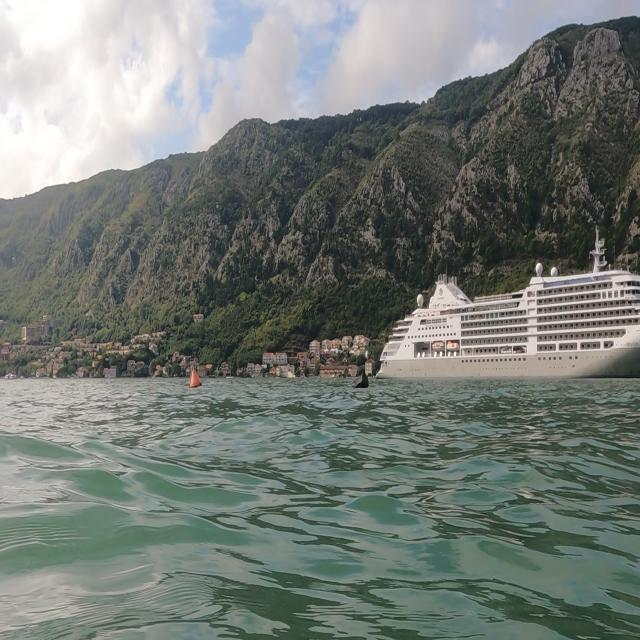boat: (374, 223, 638, 383)
buoy: (349, 368, 373, 396), (188, 359, 205, 395)
